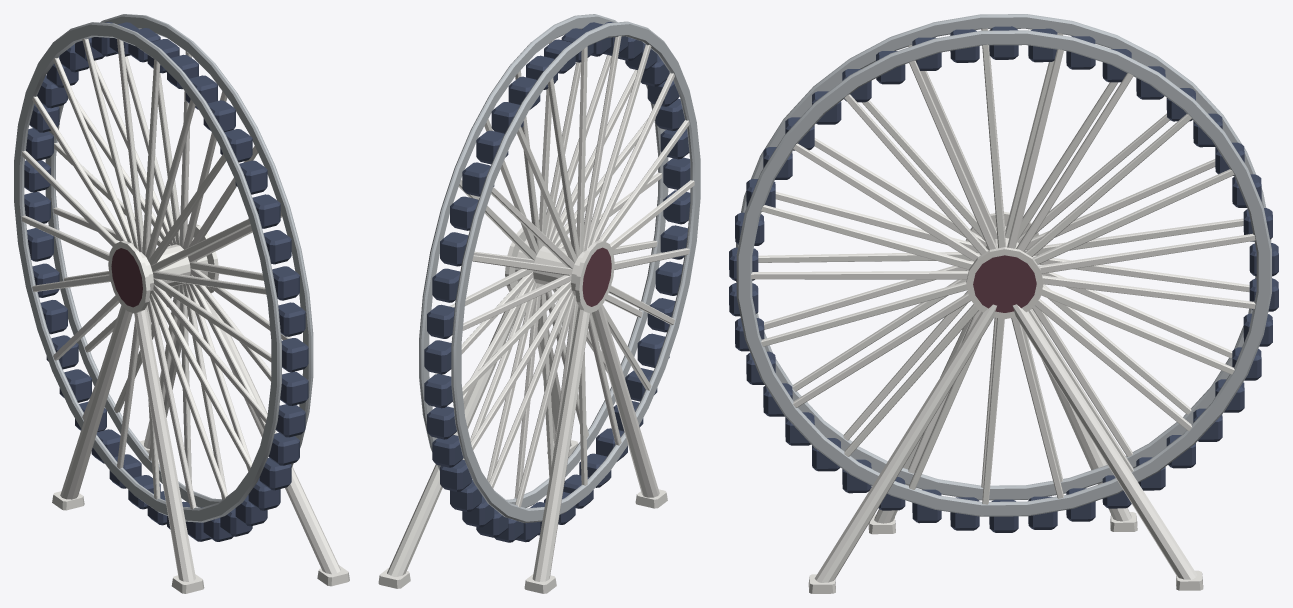
3 renders of one model, left to right at view 1: azimuth 30°, elevation 25°; view 2: azimuth 150°, elevation 25°; view 3: azimuth 270°, elevation 25°, orthographic. The views are drawn at different scales.
Visible parts, largest first — view 1: centennial-wheel; view 2: centennial-wheel; view 3: centennial-wheel.
Part boxes in pixels (left/top/right/bottom): centennial-wheel: left=14, top=14, right=349, bottom=593; centennial-wheel: left=378, top=14, right=700, bottom=593; centennial-wheel: left=729, top=14, right=1278, bottom=593.
Size of the model in its own units: 18 by 59.69 by 56.88.
